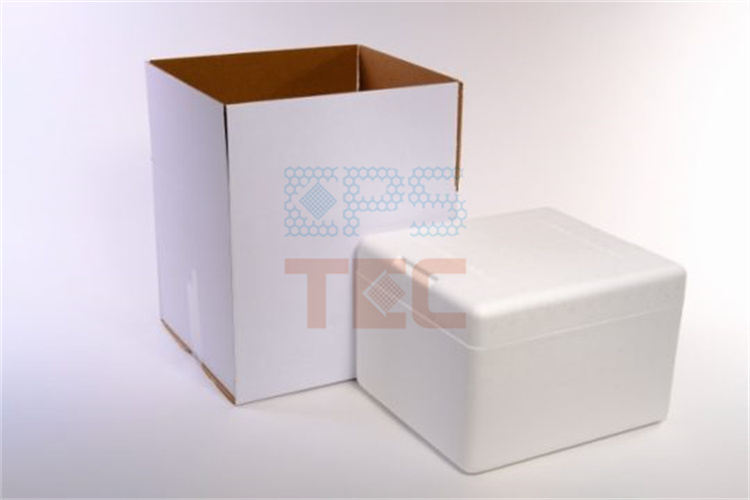Boxes: (354, 211, 684, 473)
